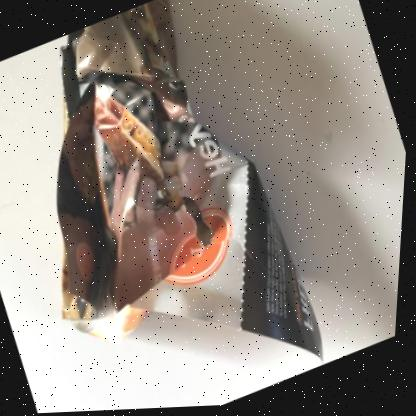Paper: (59, 0, 327, 360)
